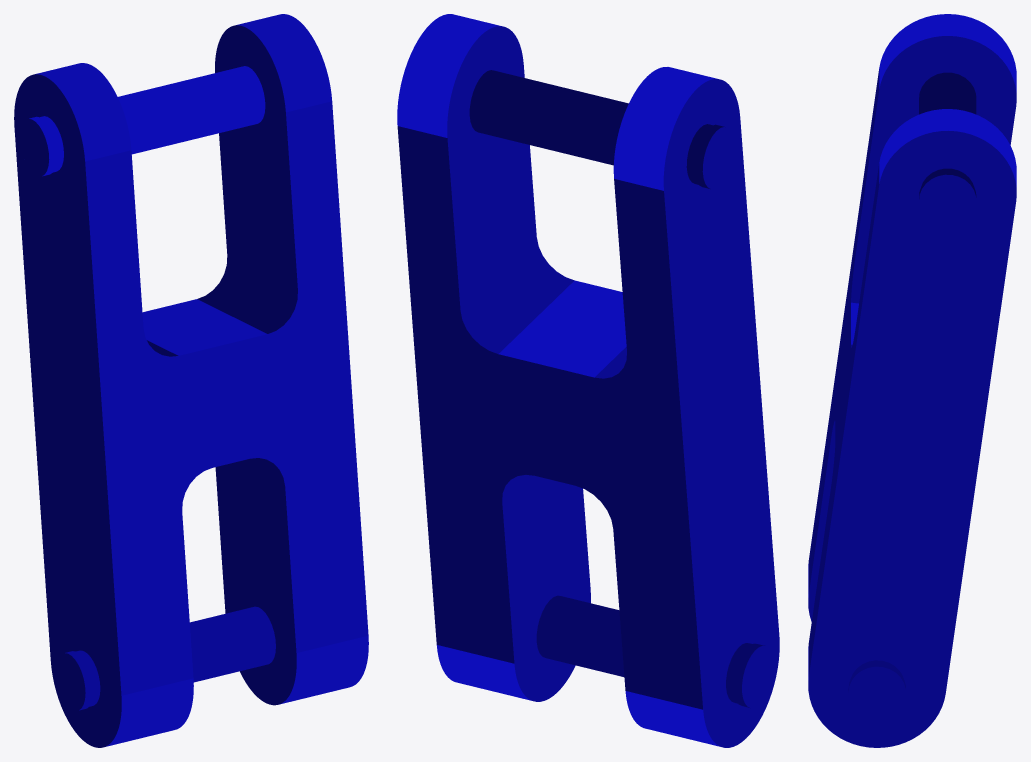
Rendered from robotiq_arg2f_85_outer_finger.dae.
3 views of the same model, side by side, from view 1: azimuth 30°, elevation 25°; view 2: azimuth 150°, elevation 25°; view 3: azimuth 270°, elevation 25° (orthographic). The views are drawn at different scales.
Visible parts, largest first — view 1: node0; view 2: node0; view 3: node0.
Part boxes in pixels (box(x1,y1,x2,y2)): node0: box(14, 14, 368, 747); node0: box(397, 14, 779, 747); node0: box(808, 14, 1016, 747).
Size of the model in its own units: 27 by 18.11 by 59.12.
